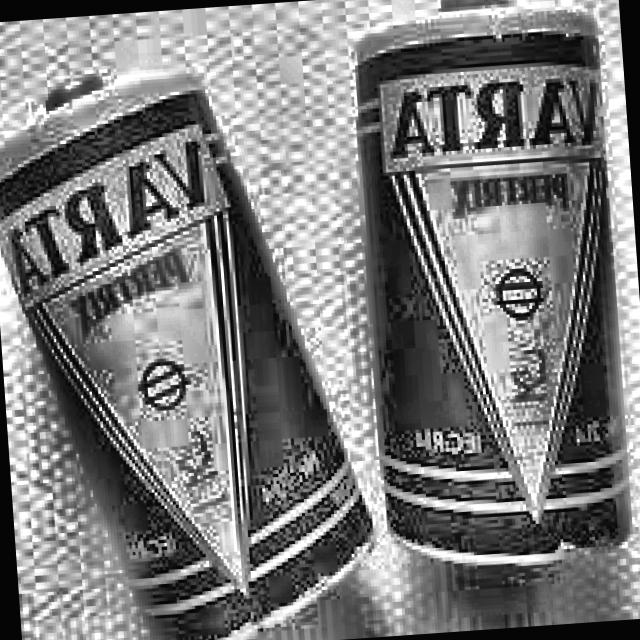Battery: (0, 62, 371, 640), (350, 0, 630, 557)
